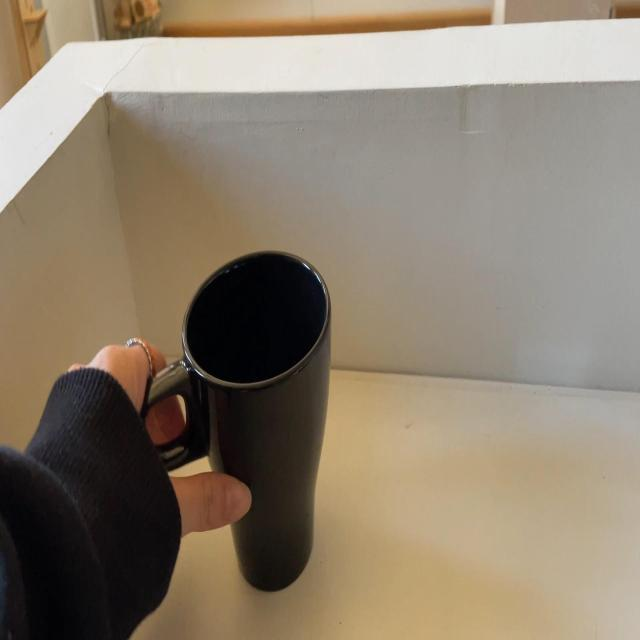cup: (146, 244, 332, 589)
